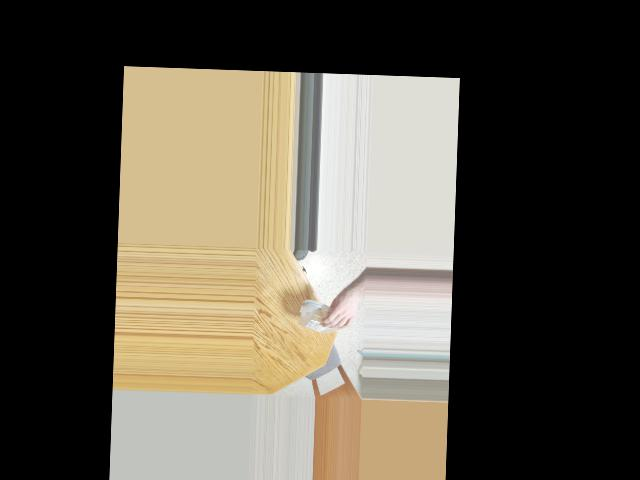cheese: (311, 298, 350, 333)
